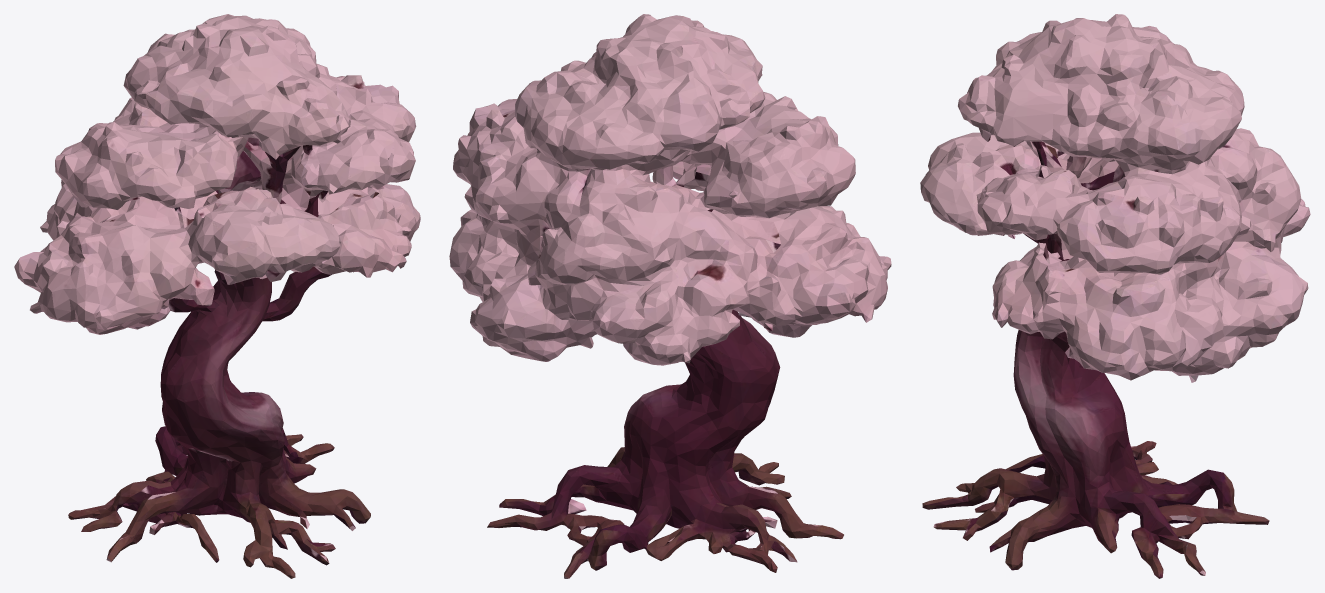
File: sakura_tree.glb
The picture shows the model from 3 angles, left to right: view 1: azimuth 30°, elevation 25°; view 2: azimuth 150°, elevation 25°; view 3: azimuth 270°, elevation 25°; orthographic projection. The views are drawn at different scales.
Visible parts, largest first — view 1: tmpueai4v41.ply; view 2: tmpueai4v41.ply; view 3: tmpueai4v41.ply.
Part boxes in pixels (box(x1,y1,x2,y2)): tmpueai4v41.ply: box(14, 14, 420, 578); tmpueai4v41.ply: box(449, 14, 891, 578); tmpueai4v41.ply: box(920, 14, 1310, 578).
Size of the model in its own units: 1.68 by 2 by 1.4.
1 material, 1 textured.
